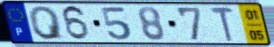5: (99, 5, 134, 42)
6: (61, 4, 94, 43)
7: (174, 6, 205, 42)
8: (137, 6, 167, 42)
Q: (27, 5, 67, 42)
T: (209, 6, 237, 43)
